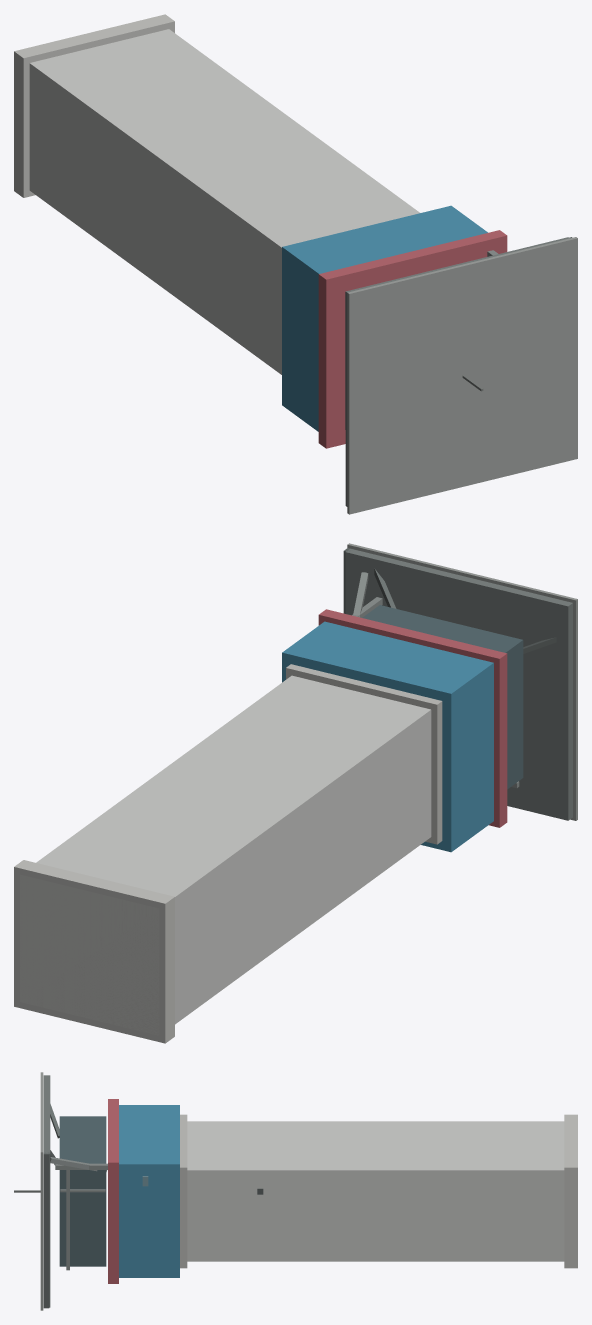
The model's file is tower_atc_model.glb.
The picture shows the model from 3 angles, top to bottom: view 1: azimuth 30°, elevation 25°; view 2: azimuth 150°, elevation 25°; view 3: azimuth 270°, elevation 25°; orthographic projection. The views are drawn at different scales.
Parts seen in each view (by area): view 1: Tower shaft, Roof top, Blue control cab, Red fascia, Base plinth, Roof canopy; view 2: Tower shaft, Roof canopy, Blue control cab, Base plinth, Glazed control room, Red fascia, Upper ledge, Roof top; view 3: Tower shaft, Blue control cab, Glazed control room, Base plinth, Red fascia, Upper ledge, Roof perimeter beam, Roof top, Roof canopy, Side glazing rail.
Boxes of the visible parts, <box> form: Tower shaft: <box>29,29,419,374</box>; Roof top: <box>347,237,577,514</box>; Blue control cab: <box>282,205,487,431</box>; Red fascia: <box>318,230,507,448</box>; Base plinth: <box>14,14,174,197</box>; Roof canopy: <box>345,237,569,506</box>; Tower shaft: <box>20,675,431,1035</box>; Roof canopy: <box>345,548,572,820</box>; Blue control cab: <box>282,621,493,852</box>; Base plinth: <box>14,860,174,1043</box>; Glazed control room: <box>362,605,523,789</box>; Red fascia: <box>318,609,507,827</box>; Upper ledge: <box>286,664,442,844</box>; Roof top: <box>347,543,577,820</box>; Tower shaft: <box>187,1121,564,1261</box>; Blue control cab: <box>119,1105,179,1277</box>; Glazed control room: <box>59,1116,106,1266</box>; Base plinth: <box>564,1114,577,1268</box>; Red fascia: <box>108,1099,118,1283</box>; Upper ledge: <box>180,1114,187,1268</box>; Roof perimeter beam: <box>43,1152,49,1308</box>; Roof top: <box>40,1072,43,1310</box>; Roof canopy: <box>43,1075,50,1307</box>; Side glazing rail: <box>66,1167,69,1269</box>.
Size of the model in its own units: 3.85 by 3.55 by 11.45.
